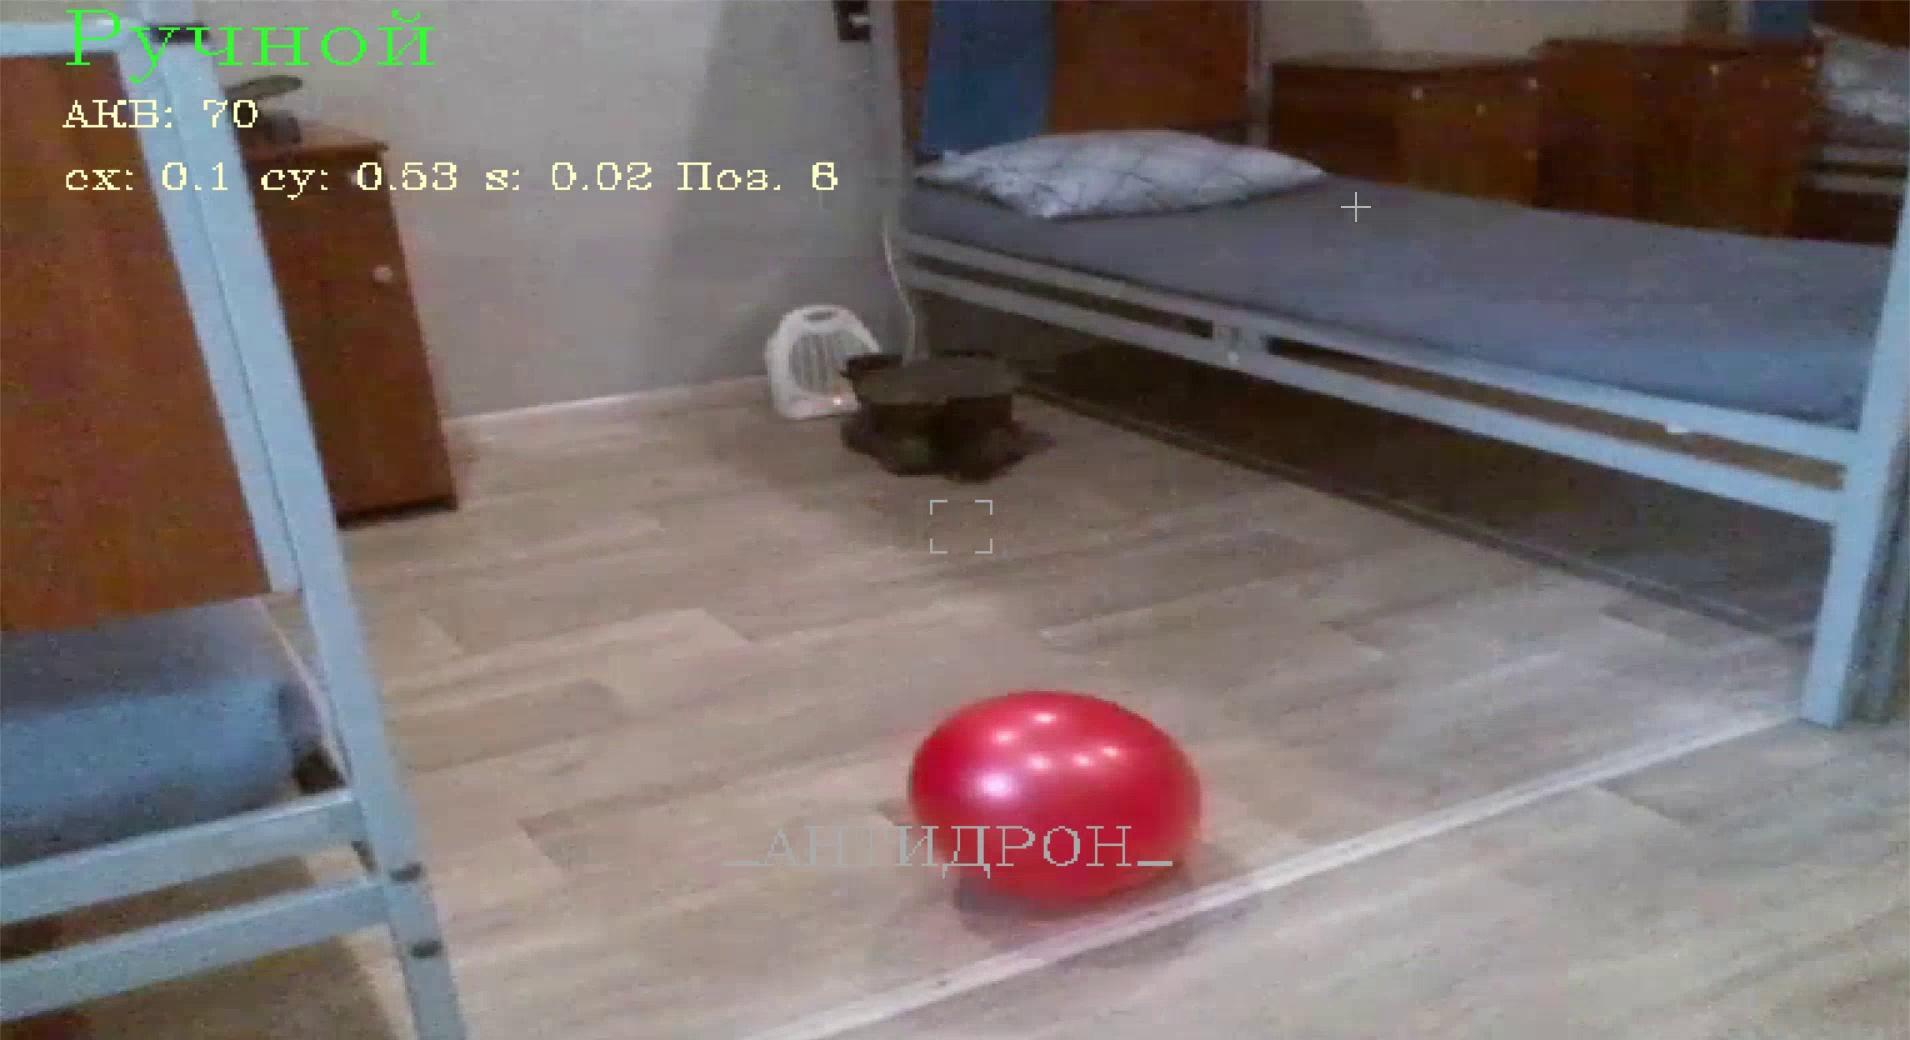red: (903, 689, 1202, 916)
